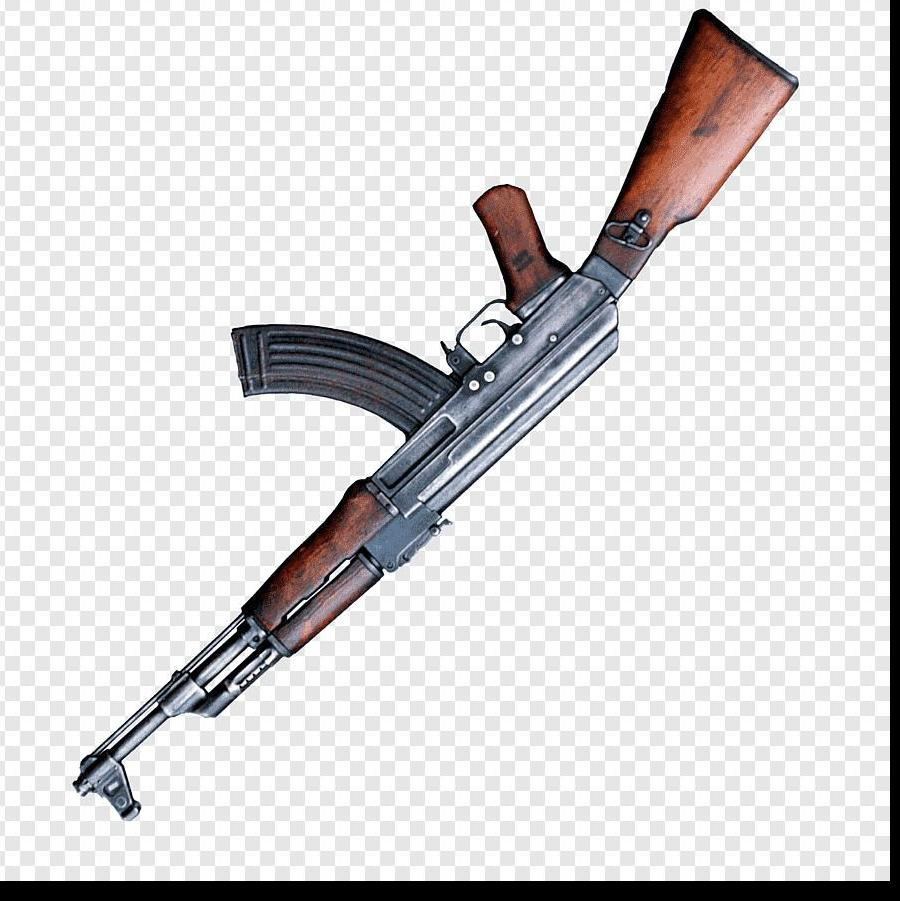larga: (70, 5, 802, 824)
